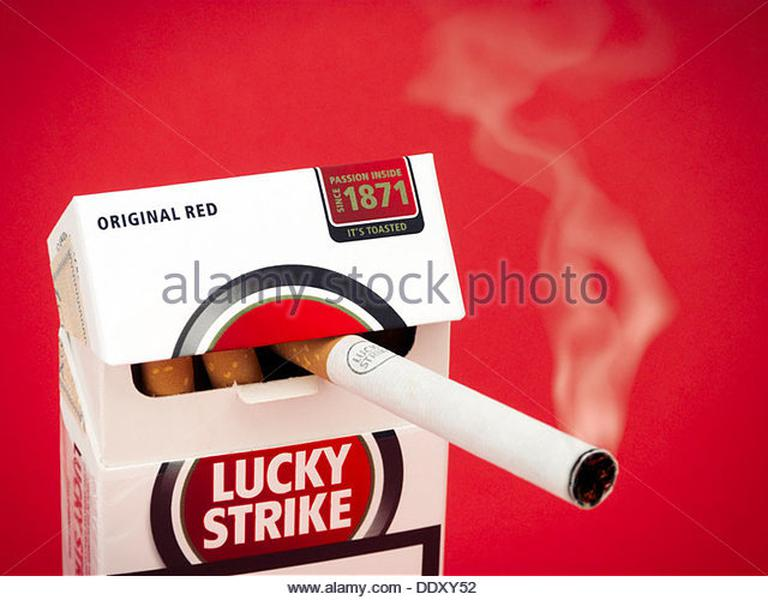lucky_strike_red: (101, 193, 445, 577)
